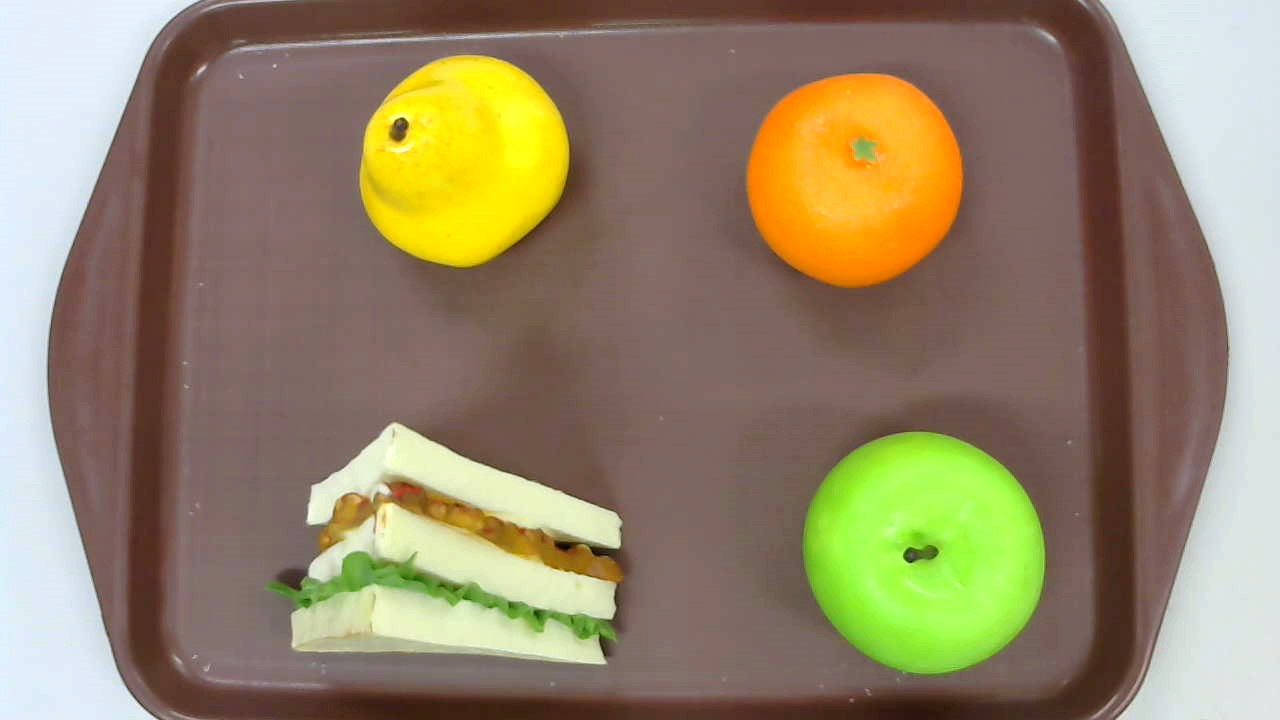green apple: (800, 431, 1046, 674)
orange: (747, 73, 963, 288)
sandwich: (265, 422, 625, 666)
yellow pear: (358, 55, 570, 268)
